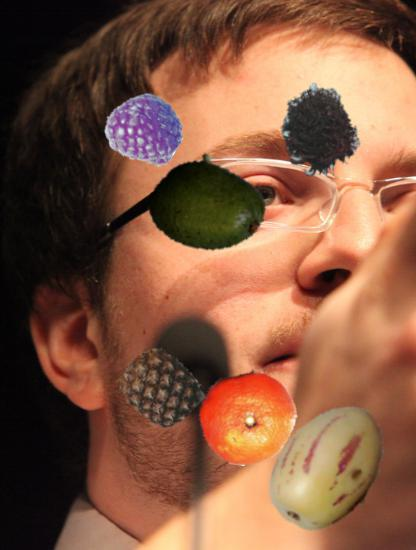Avocado: (150, 144, 268, 262)
Clementine: (198, 366, 299, 467)
Pepino: (261, 401, 397, 537)
Pineapple: (120, 348, 200, 428)
Rambutan: (270, 82, 369, 181)
Raspberry: (106, 90, 183, 167)
